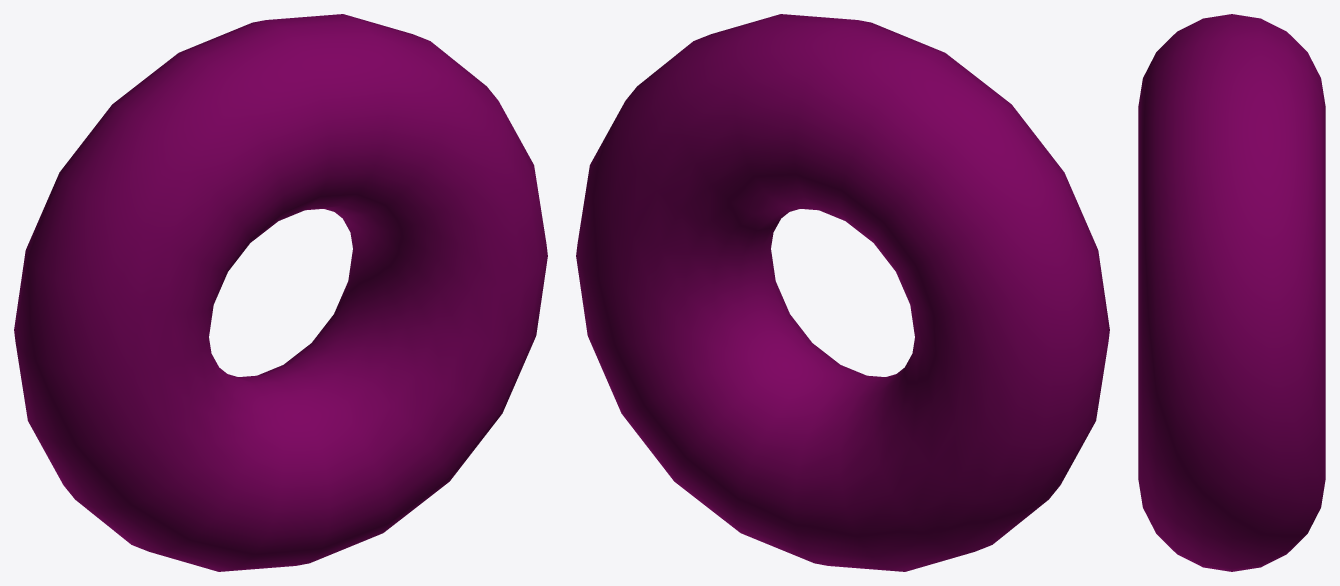
Rendered from aim.obj.
3 views of the same model, side by side, from view 1: azimuth 30°, elevation 25°; view 2: azimuth 150°, elevation 25°; view 3: azimuth 270°, elevation 25° (orthographic). The views are drawn at different scales.
Visible parts, largest first — view 1: pTorus1; view 2: pTorus1; view 3: pTorus1.
Boxes of the visible parts, x1=… form: pTorus1: x1=14, y1=14, x2=547, y2=571; pTorus1: x1=576, y1=14, x2=1109, y2=571; pTorus1: x1=1138, y1=14, x2=1325, y2=571.
Bounding box in the file's own units: 6.39 × 6.39 × 2.13.
